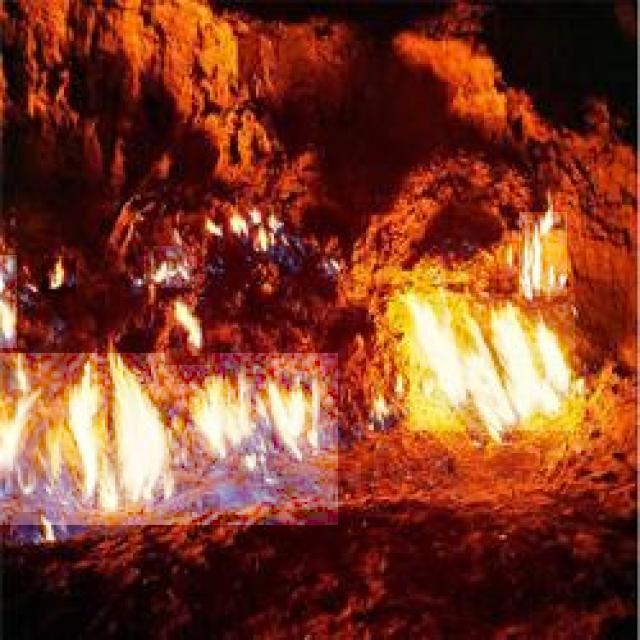Fire: (0, 353, 338, 525), (410, 293, 575, 431), (210, 206, 346, 272), (519, 212, 567, 296), (165, 297, 212, 365), (144, 246, 194, 288), (0, 255, 17, 348), (42, 258, 76, 293)
